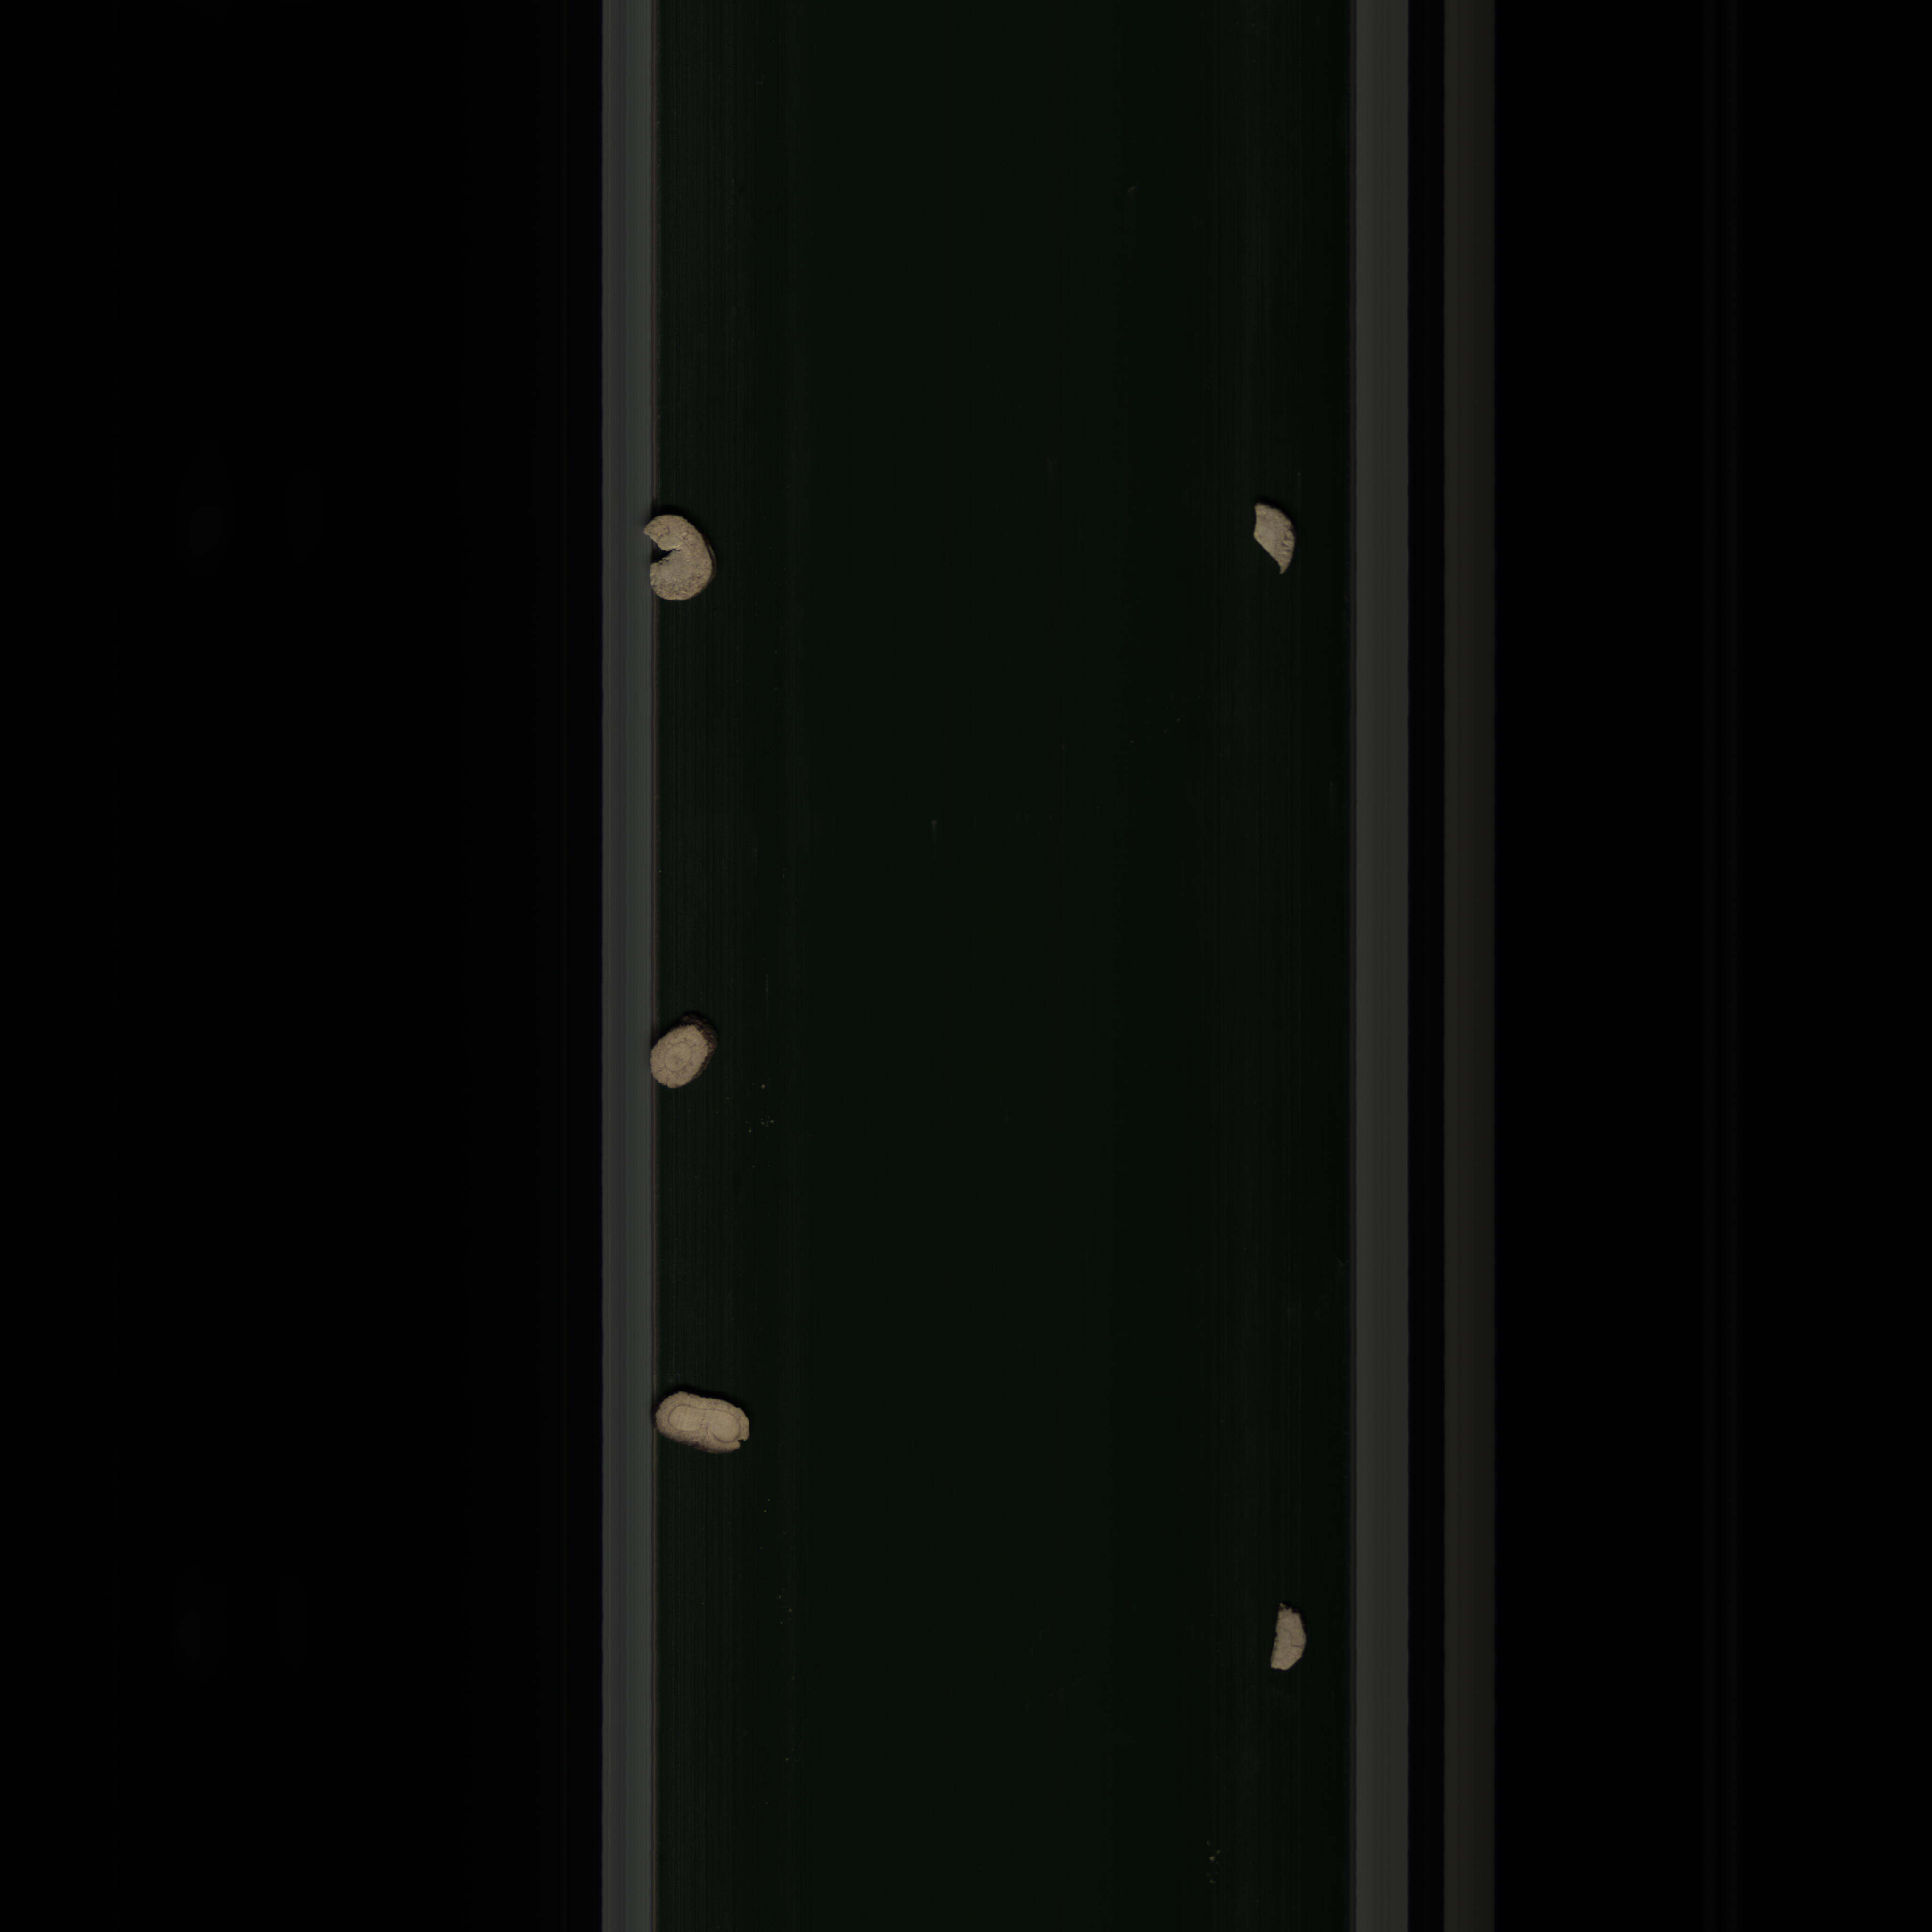debris: (628, 513, 727, 602), (1246, 492, 1302, 582), (1256, 1594, 1313, 1679)
